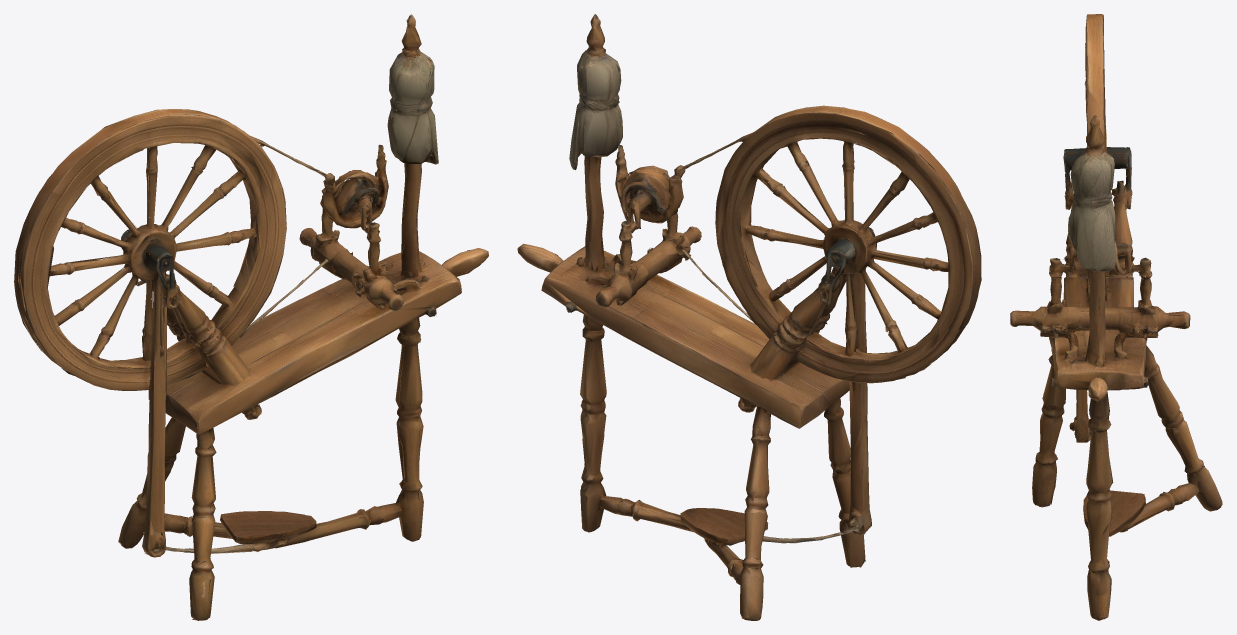
File: spinning-wheel.glb
3 views of the same model, side by side, from view 1: azimuth 30°, elevation 25°; view 2: azimuth 150°, elevation 25°; view 3: azimuth 270°, elevation 25° (orthographic). The views are drawn at different scales.
Parts seen in each view (by area): view 1: Mesh_0; view 2: Mesh_0; view 3: Mesh_0.
Boxes of the visible parts, x1=… form: Mesh_0: x1=14, y1=14, x2=488, y2=620; Mesh_0: x1=517, y1=14, x2=981, y2=620; Mesh_0: x1=1010, y1=14, x2=1222, y2=620.
Size of the model in its own units: 1.78 by 1.9 by 0.7288.
1 material, 1 textured.
